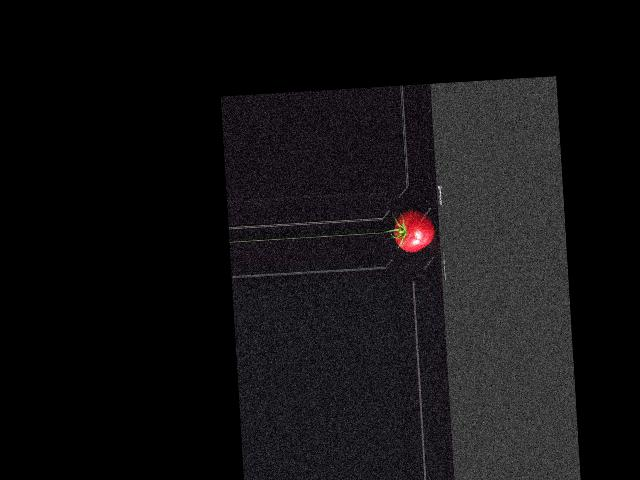tomato: (392, 208, 435, 253)
